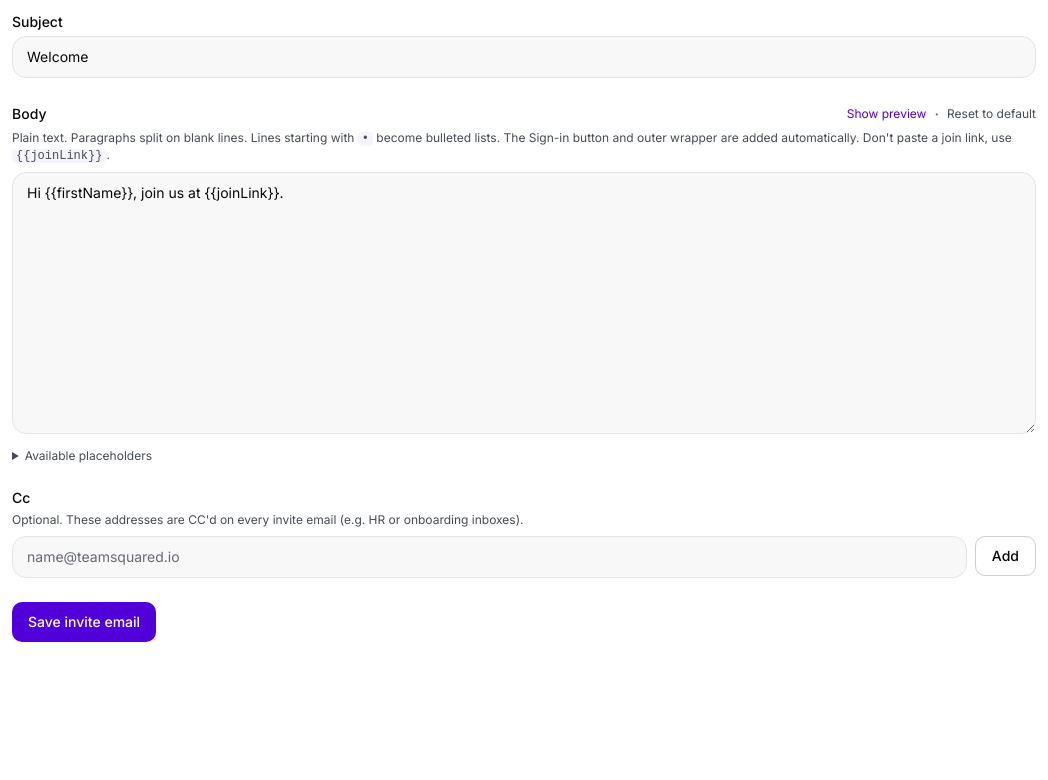
InviteEmailTemplateForm › toggles the preview block on Show preview / Hide preview click
Check: the text "Jordan" is not shown
Click the button "Show preview": (887, 114) [847,106,926,122]
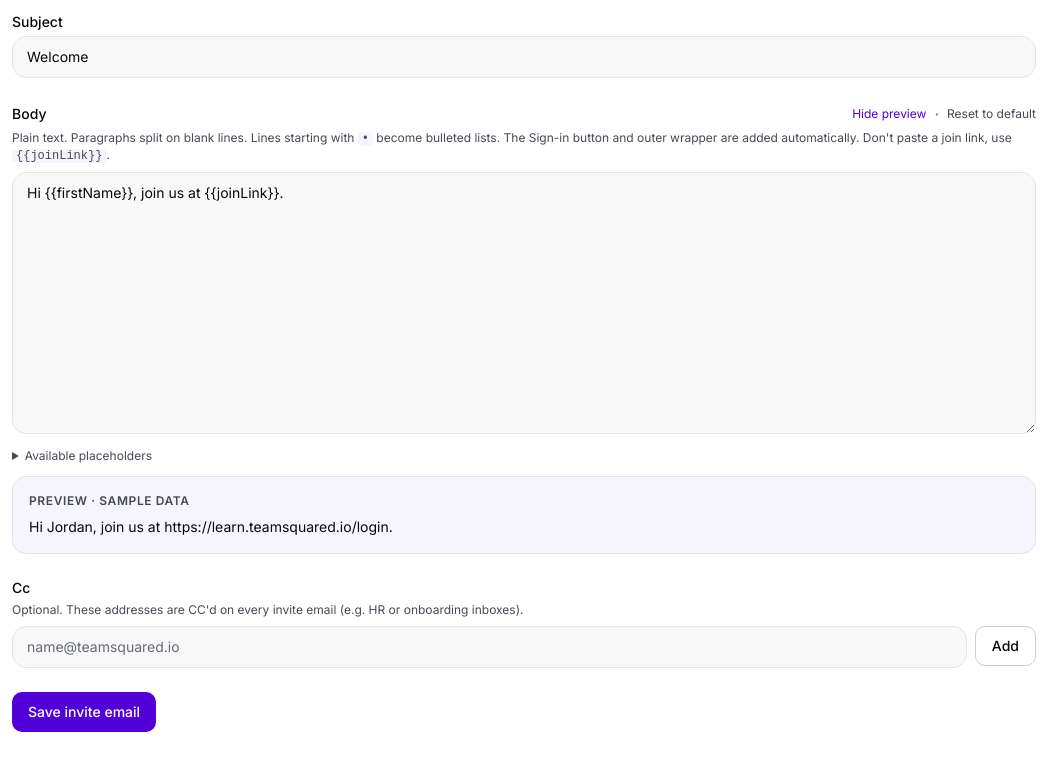
Check: the text "Jordan" is shown, box [29,518,393,535]
